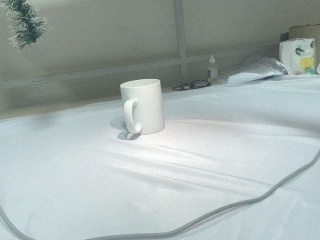bottle: (207, 55, 219, 84)
box: (279, 38, 316, 74)
cup: (109, 77, 166, 140)
